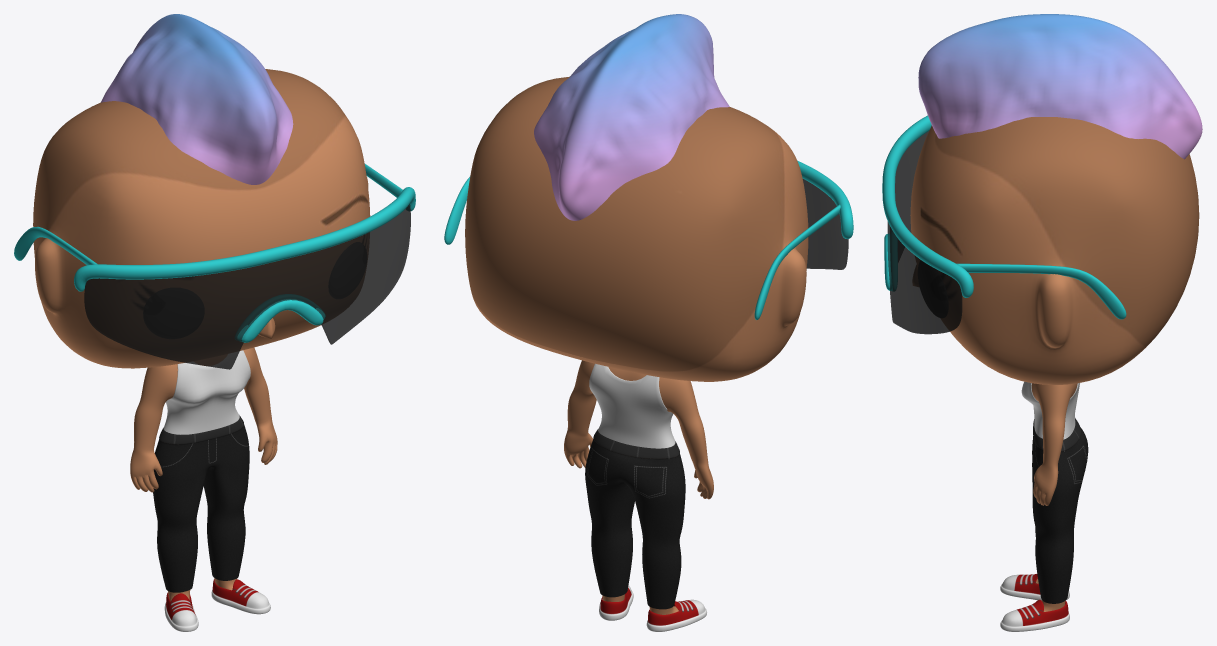
The model's file is funko_test_model.glb.
3 renders of one model, left to right at view 1: azimuth 30°, elevation 25°; view 2: azimuth 150°, elevation 25°; view 3: azimuth 270°, elevation 25°, orthographic. The views are drawn at different scales.
Parts seen in each view (by area): view 1: Cube.014, Cube.021, Cube.019, Cube.016, Cube.020, Cube.015, Cube.017, Sphere.001, Cube.018; view 2: Cube.014, Cube.019, Cube.016, Cube.015, Cube.017, Cube.020, Cube.021, Cube.018; view 3: Cube.014, Cube.019, Cube.021, Cube.016, Cube.020, Cube.015, Cube.018, Sphere.001, Cube.017.
Boxes of the visible parts, x1=… form: Cube.014: x1=33, y1=69, x2=370, y2=368; Cube.021: x1=84, y1=204, x2=410, y2=369; Cube.019: x1=101, y1=14, x2=293, y2=184; Cube.016: x1=153, y1=415, x2=249, y2=592; Cube.020: x1=14, y1=164, x2=415, y2=342; Cube.015: x1=130, y1=347, x2=277, y2=600; Cube.017: x1=163, y1=350, x2=250, y2=434; Sphere.001: x1=143, y1=242, x2=366, y2=338; Cube.018: x1=164, y1=579, x2=270, y2=631; Cube.014: x1=465, y1=76, x2=808, y2=381; Cube.019: x1=534, y1=14, x2=729, y2=220; Cube.016: x1=585, y1=429, x2=685, y2=609; Cube.015: x1=564, y1=360, x2=713, y2=614; Cube.017: x1=589, y1=363, x2=675, y2=448; Cube.020: x1=444, y1=160, x2=853, y2=319; Cube.021: x1=802, y1=179, x2=848, y2=269; Cube.018: x1=599, y1=585, x2=706, y2=631; Cube.014: x1=910, y1=117, x2=1199, y2=384; Cube.019: x1=918, y1=14, x2=1202, y2=159; Cube.021: x1=887, y1=131, x2=962, y2=334; Cube.016: x1=1032, y1=418, x2=1088, y2=603; Cube.020: x1=882, y1=115, x2=1126, y2=319; Cube.015: x1=1031, y1=383, x2=1077, y2=611; Cube.018: x1=1000, y1=574, x2=1069, y2=631; Sphere.001: x1=918, y1=261, x2=947, y2=317; Cube.017: x1=1021, y1=381, x2=1079, y2=439.
Bounding box in the file's own units: 234 × 380 × 185.
Materials: 2 (2 with a texture image).
